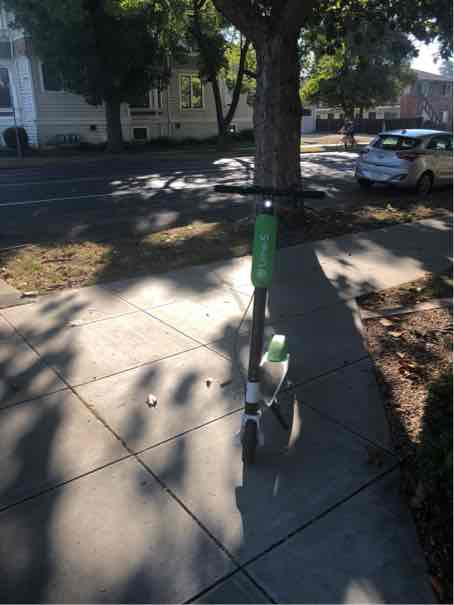scooter: (200, 188, 317, 476)
